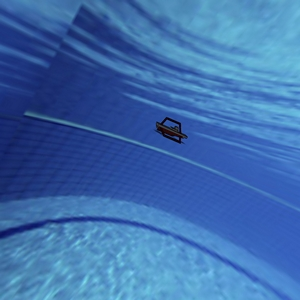submarine: (151, 112, 192, 150)
